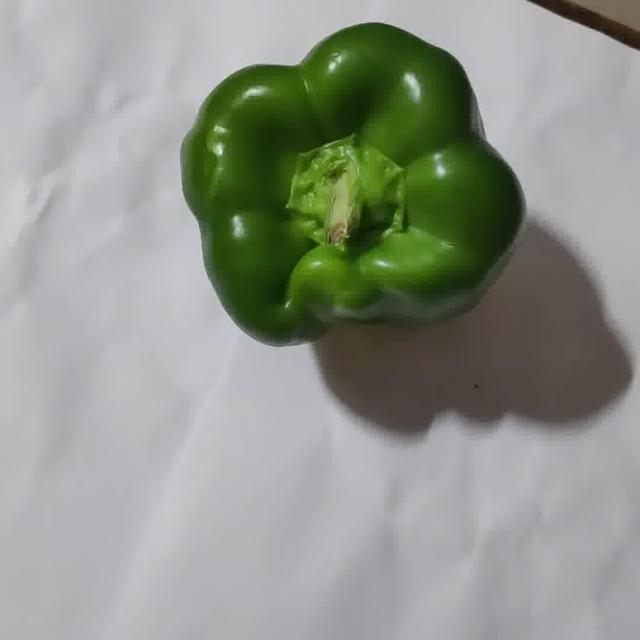Bell Pepper: (182, 24, 523, 345)
